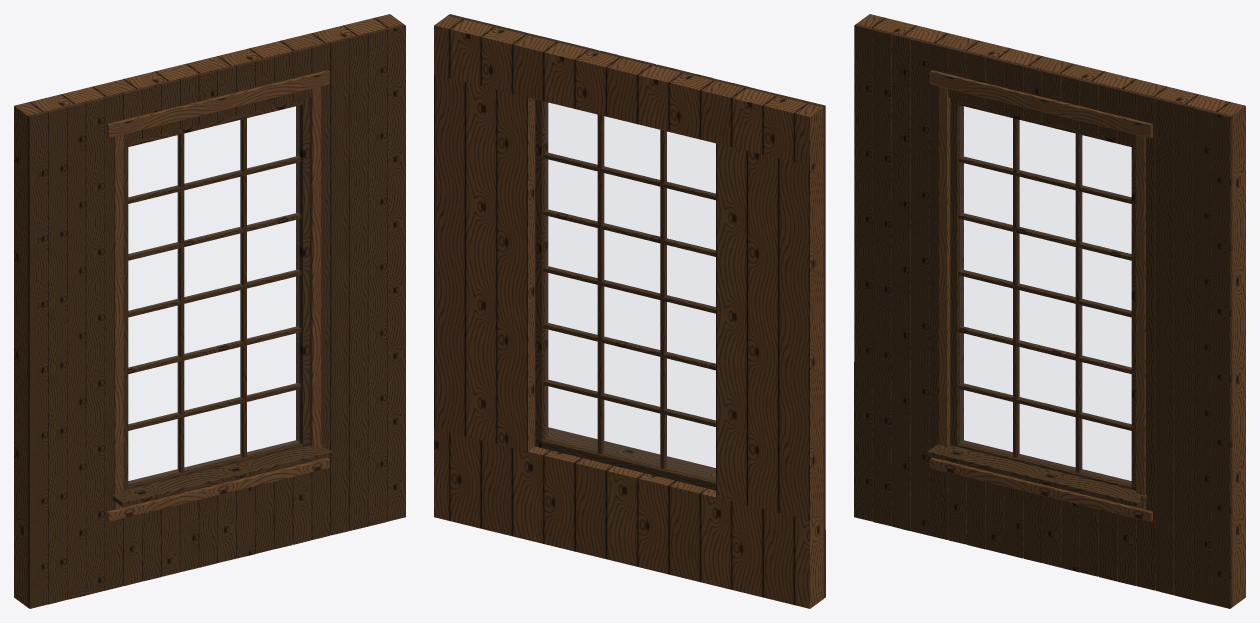
File: Wall_Window_4m.glb
3 views of the same model, side by side, from view 1: azimuth 30°, elevation 25°; view 2: azimuth 150°, elevation 25°; view 3: azimuth 330°, elevation 25° (orthographic).
Visible parts, largest first — view 1: Wall_Window_4m; view 2: Wall_Window_4m; view 3: Wall_Window_4m.
Boxes of the visible parts, box(x1,y1,x2,y2) form: Wall_Window_4m: box(14, 14, 405, 608); Wall_Window_4m: box(434, 14, 825, 608); Wall_Window_4m: box(854, 14, 1245, 608).
Bounding box in the file's own units: 4 × 5 × 0.47.
3 materials, 2 textured.
